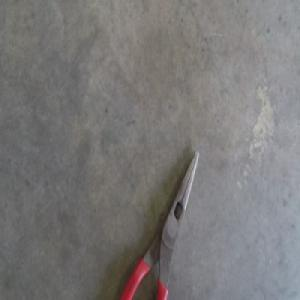Pliers: (121, 150, 199, 298)
